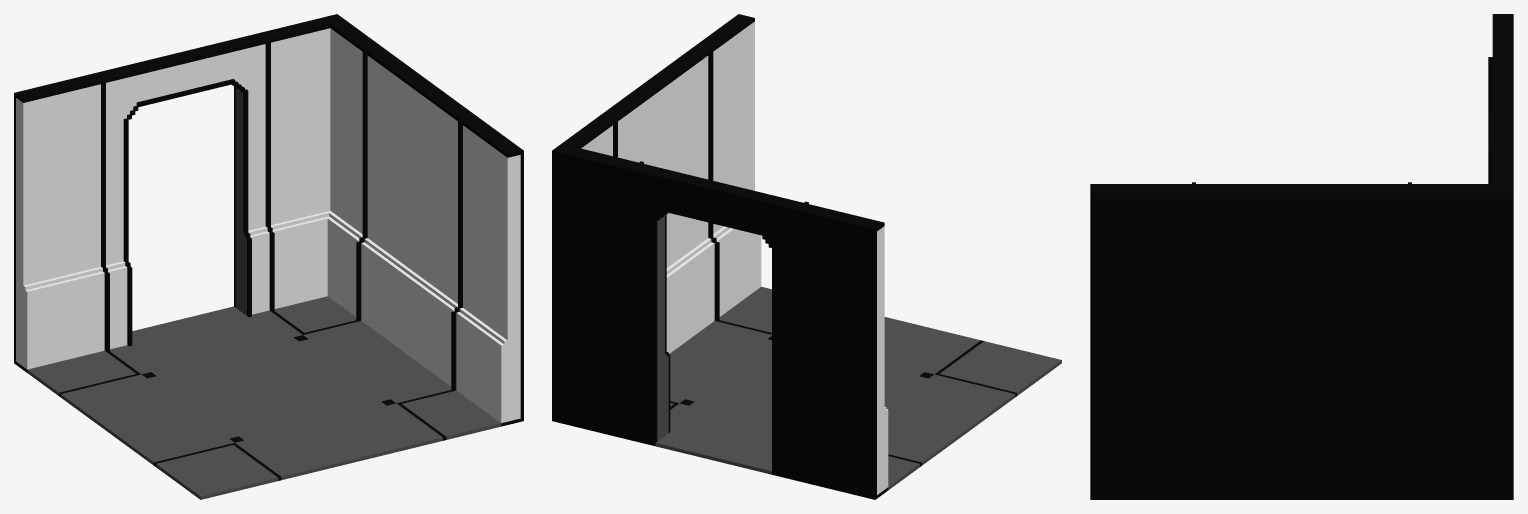
File: Door Corner 1.obj
3 renders of one model, left to right at view 1: azimuth 30°, elevation 25°; view 2: azimuth 150°, elevation 25°; view 3: azimuth 270°, elevation 25°, orthographic. The views are drawn at different scales.
Size of the model in its own units: 10 by 8 by 10.
